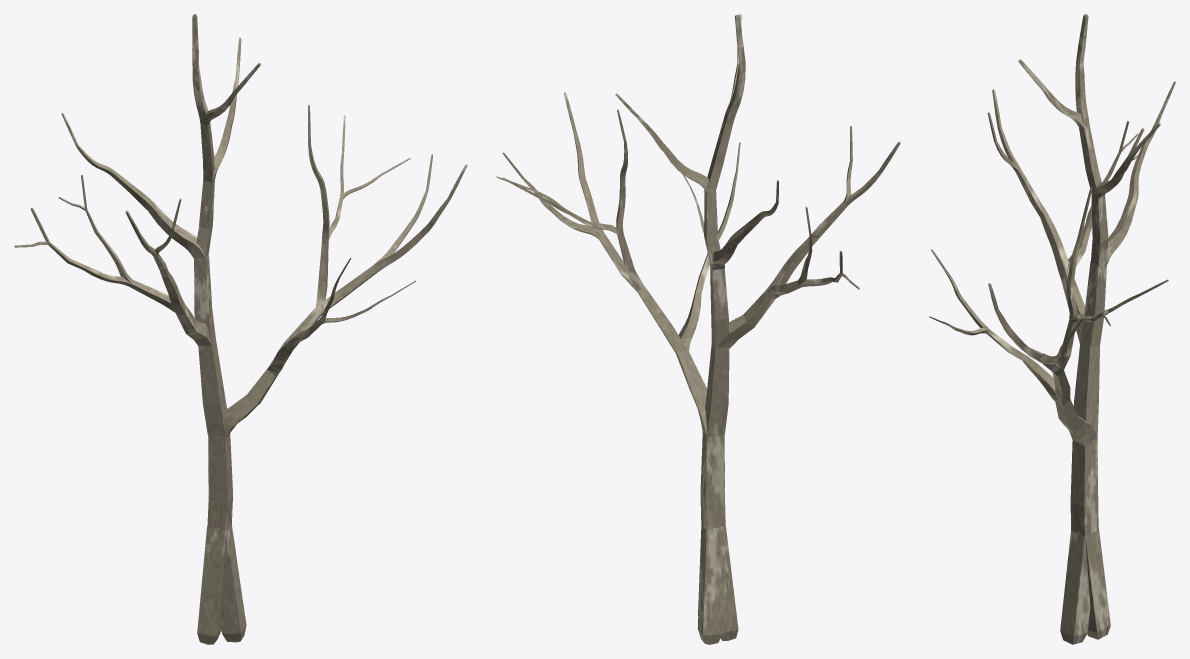
The model's file is dead_trees_1.obj.
3 views of the same model, side by side, from view 1: azimuth 30°, elevation 25°; view 2: azimuth 150°, elevation 25°; view 3: azimuth 270°, elevation 25° (orthographic). The views are drawn at different scales.
Parts seen in each view (by area): view 1: Mesh11 Plum_Tre1 Model, Mesh4 Plum_Tre1 Model, Mesh2 Plum_Tre1 Model, Mesh1 Plum_Tre1 Model, Mesh6 Plum_Tre1 Model, Mesh18 Plum_Tre1 Model, Mesh12 Plum_Tre1 Model, Mesh19 Plum_Tre1 Model, Mesh7 Plum_Tre1 Model, Mesh13 Plum_Tre1 Model; view 2: Mesh4 Plum_Tre1 Model, Mesh11 Plum_Tre1 Model, Mesh3 Plum_Tre1 Model, Mesh12 Plum_Tre1 Model, Mesh6 Plum_Tre1 Model, Mesh18 Plum_Tre1 Model, Mesh19 Plum_Tre1 Model, Mesh7 Plum_Tre1 Model, Mesh2 Plum_Tre1 Model, Mesh13 Plum_Tre1 Model, Mesh10 Plum_Tre1 Model; view 3: Mesh11 Plum_Tre1 Model, Mesh4 Plum_Tre1 Model, Mesh1 Plum_Tre1 Model, Mesh12 Plum_Tre1 Model, Mesh3 Plum_Tre1 Model, Mesh19 Plum_Tre1 Model, Mesh18 Plum_Tre1 Model, Mesh7 Plum_Tre1 Model, Mesh6 Plum_Tre1 Model, Mesh20 Plum_Tre1 Model, Mesh8 Plum_Tre1 Model, Mesh13 Plum_Tre1 Model.
Boxes of the visible parts, x1,y1,x2,y2 form: Mesh11 Plum_Tre1 Model: (61, 113, 226, 436); Mesh4 Plum_Tre1 Model: (207, 258, 351, 532); Mesh2 Plum_Tre1 Model: (197, 527, 226, 644); Mesh1 Plum_Tre1 Model: (219, 524, 246, 642); Mesh6 Plum_Tre1 Model: (268, 164, 467, 367); Mesh18 Plum_Tre1 Model: (196, 37, 241, 257); Mesh12 Plum_Tre1 Model: (125, 210, 211, 346); Mesh19 Plum_Tre1 Model: (192, 14, 214, 181); Mesh7 Plum_Tre1 Model: (308, 105, 329, 308); Mesh13 Plum_Tre1 Model: (30, 207, 174, 312); Mesh4 Plum_Tre1 Model: (676, 142, 740, 529); Mesh11 Plum_Tre1 Model: (705, 180, 778, 436); Mesh3 Plum_Tre1 Model: (697, 524, 725, 644); Mesh12 Plum_Tre1 Model: (717, 141, 900, 348); Mesh6 Plum_Tre1 Model: (564, 92, 687, 354); Mesh18 Plum_Tre1 Model: (615, 93, 720, 263); Mesh19 Plum_Tre1 Model: (707, 14, 745, 189); Mesh7 Plum_Tre1 Model: (616, 109, 644, 290); Mesh2 Plum_Tre1 Model: (717, 526, 738, 640); Mesh13 Plum_Tre1 Model: (767, 250, 842, 298); Mesh10 Plum_Tre1 Model: (502, 152, 603, 238); Mesh11 Plum_Tre1 Model: (1073, 81, 1175, 436); Mesh4 Plum_Tre1 Model: (931, 249, 1098, 544); Mesh1 Plum_Tre1 Model: (1060, 530, 1090, 644); Mesh12 Plum_Tre1 Model: (992, 89, 1085, 343); Mesh3 Plum_Tre1 Model: (1085, 527, 1110, 639); Mesh19 Plum_Tre1 Model: (1075, 14, 1101, 193); Mesh18 Plum_Tre1 Model: (1090, 123, 1160, 266); Mesh7 Plum_Tre1 Model: (1056, 187, 1092, 369); Mesh6 Plum_Tre1 Model: (988, 283, 1070, 405); Mesh20 Plum_Tre1 Model: (1018, 59, 1083, 127); Mesh8 Plum_Tre1 Model: (1070, 279, 1168, 322); Mesh13 Plum_Tre1 Model: (1067, 128, 1144, 274).
Bounding box in the file's own units: 81.83 × 127 × 46.29.
1 material, 1 textured.
